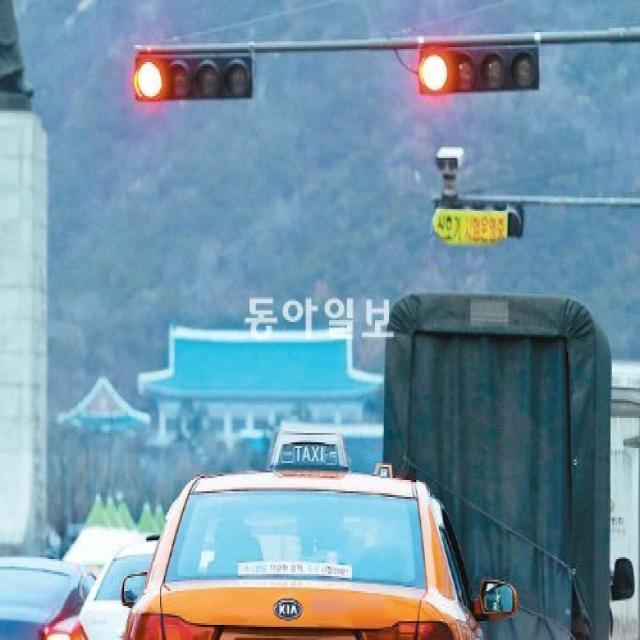red_light: (419, 39, 541, 93), (133, 54, 258, 106)
